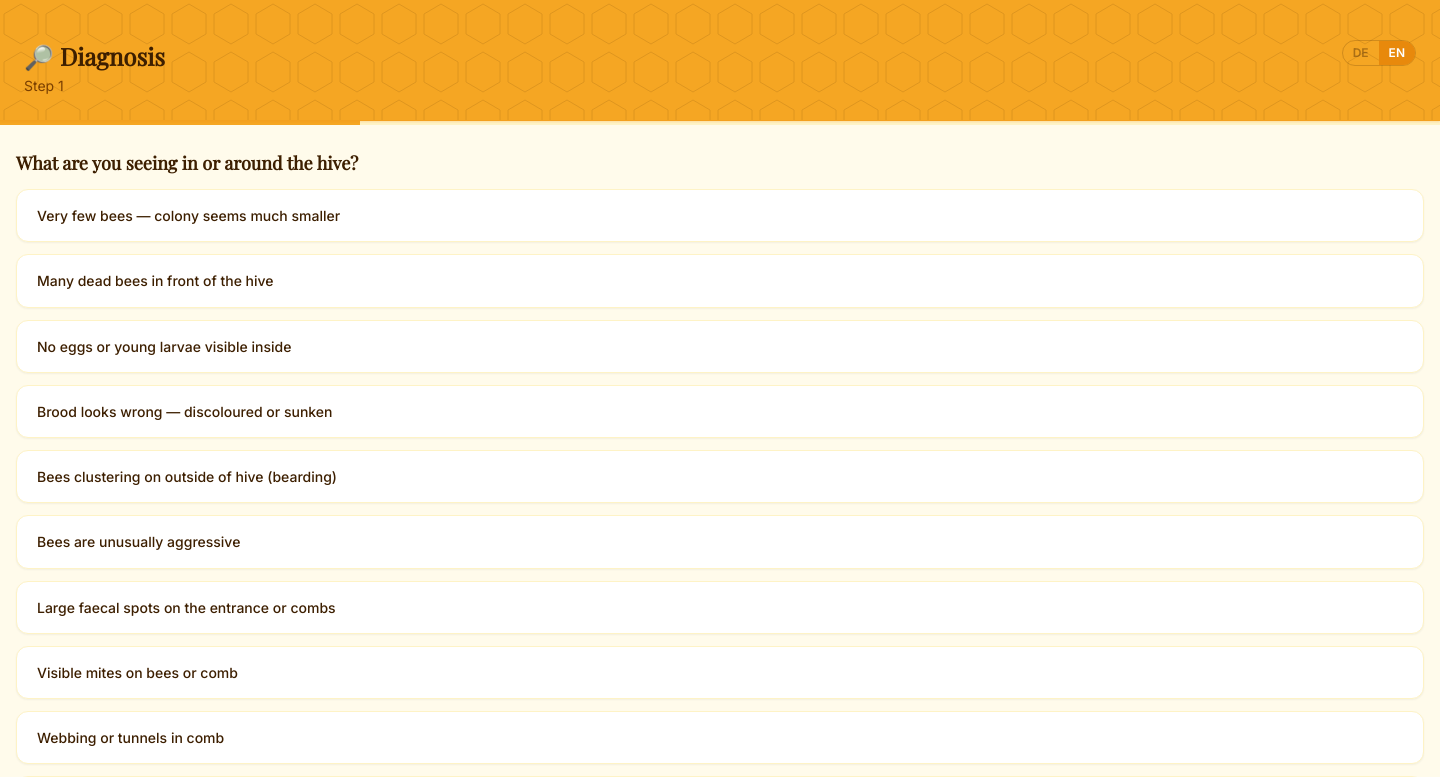
Test case: DiagnoseScreen › advances to the next question when an option is selected
The width and height of the screenshot is (1440, 777).
Click the button "Very few bees — colony seems much smaller" at (189, 216), box [16,189,1424,242]
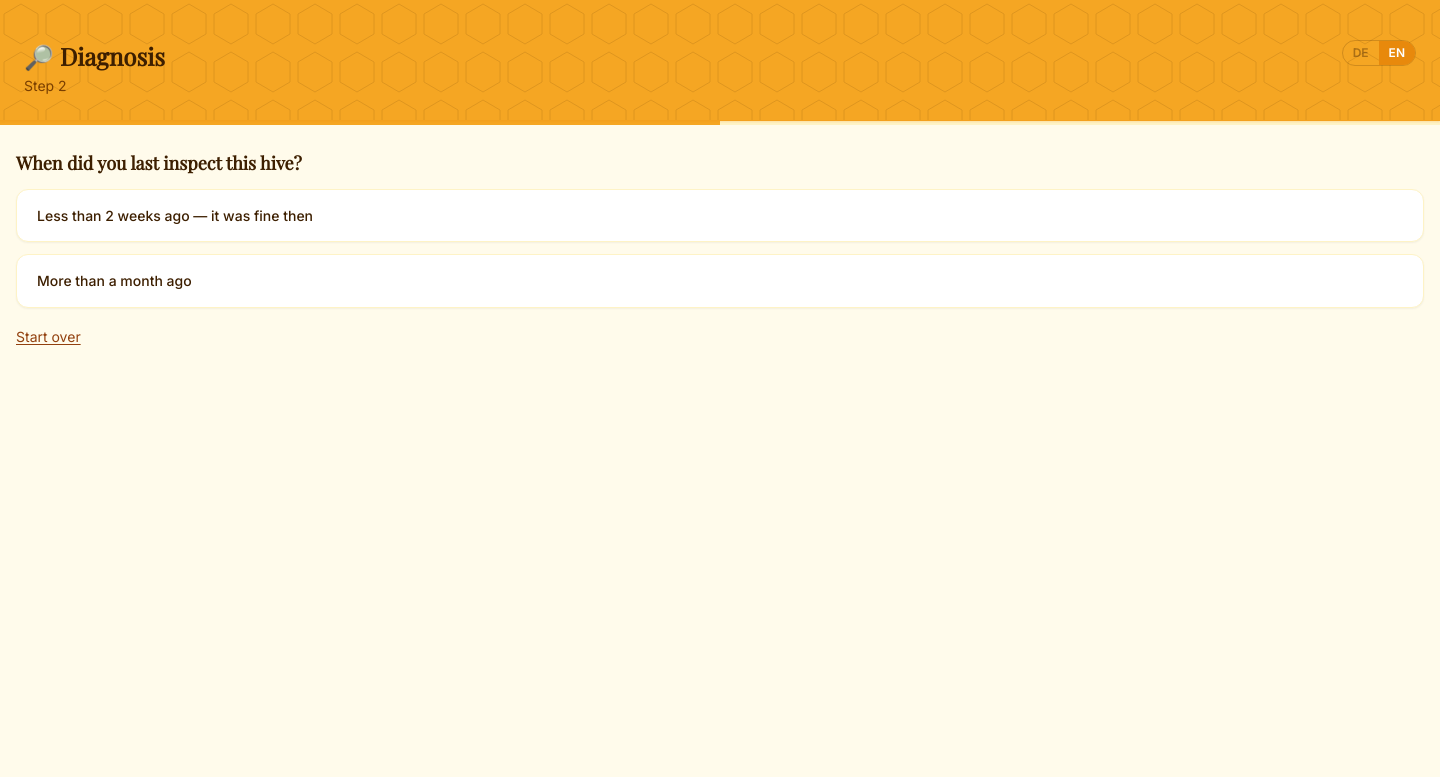
Expected: the heading "When did you last inspect this hive?" is shown, [16,151,302,175]
